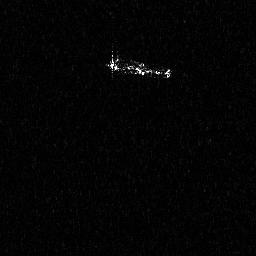ship: (104, 47, 172, 80)
